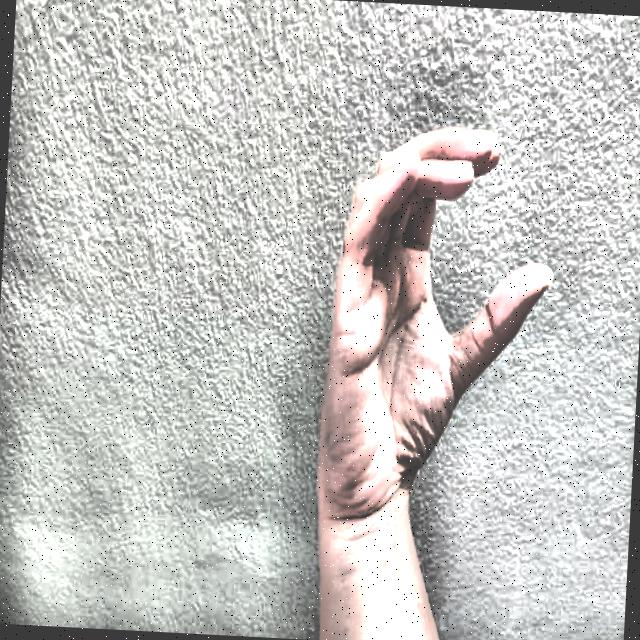A: (290, 85, 584, 553)
